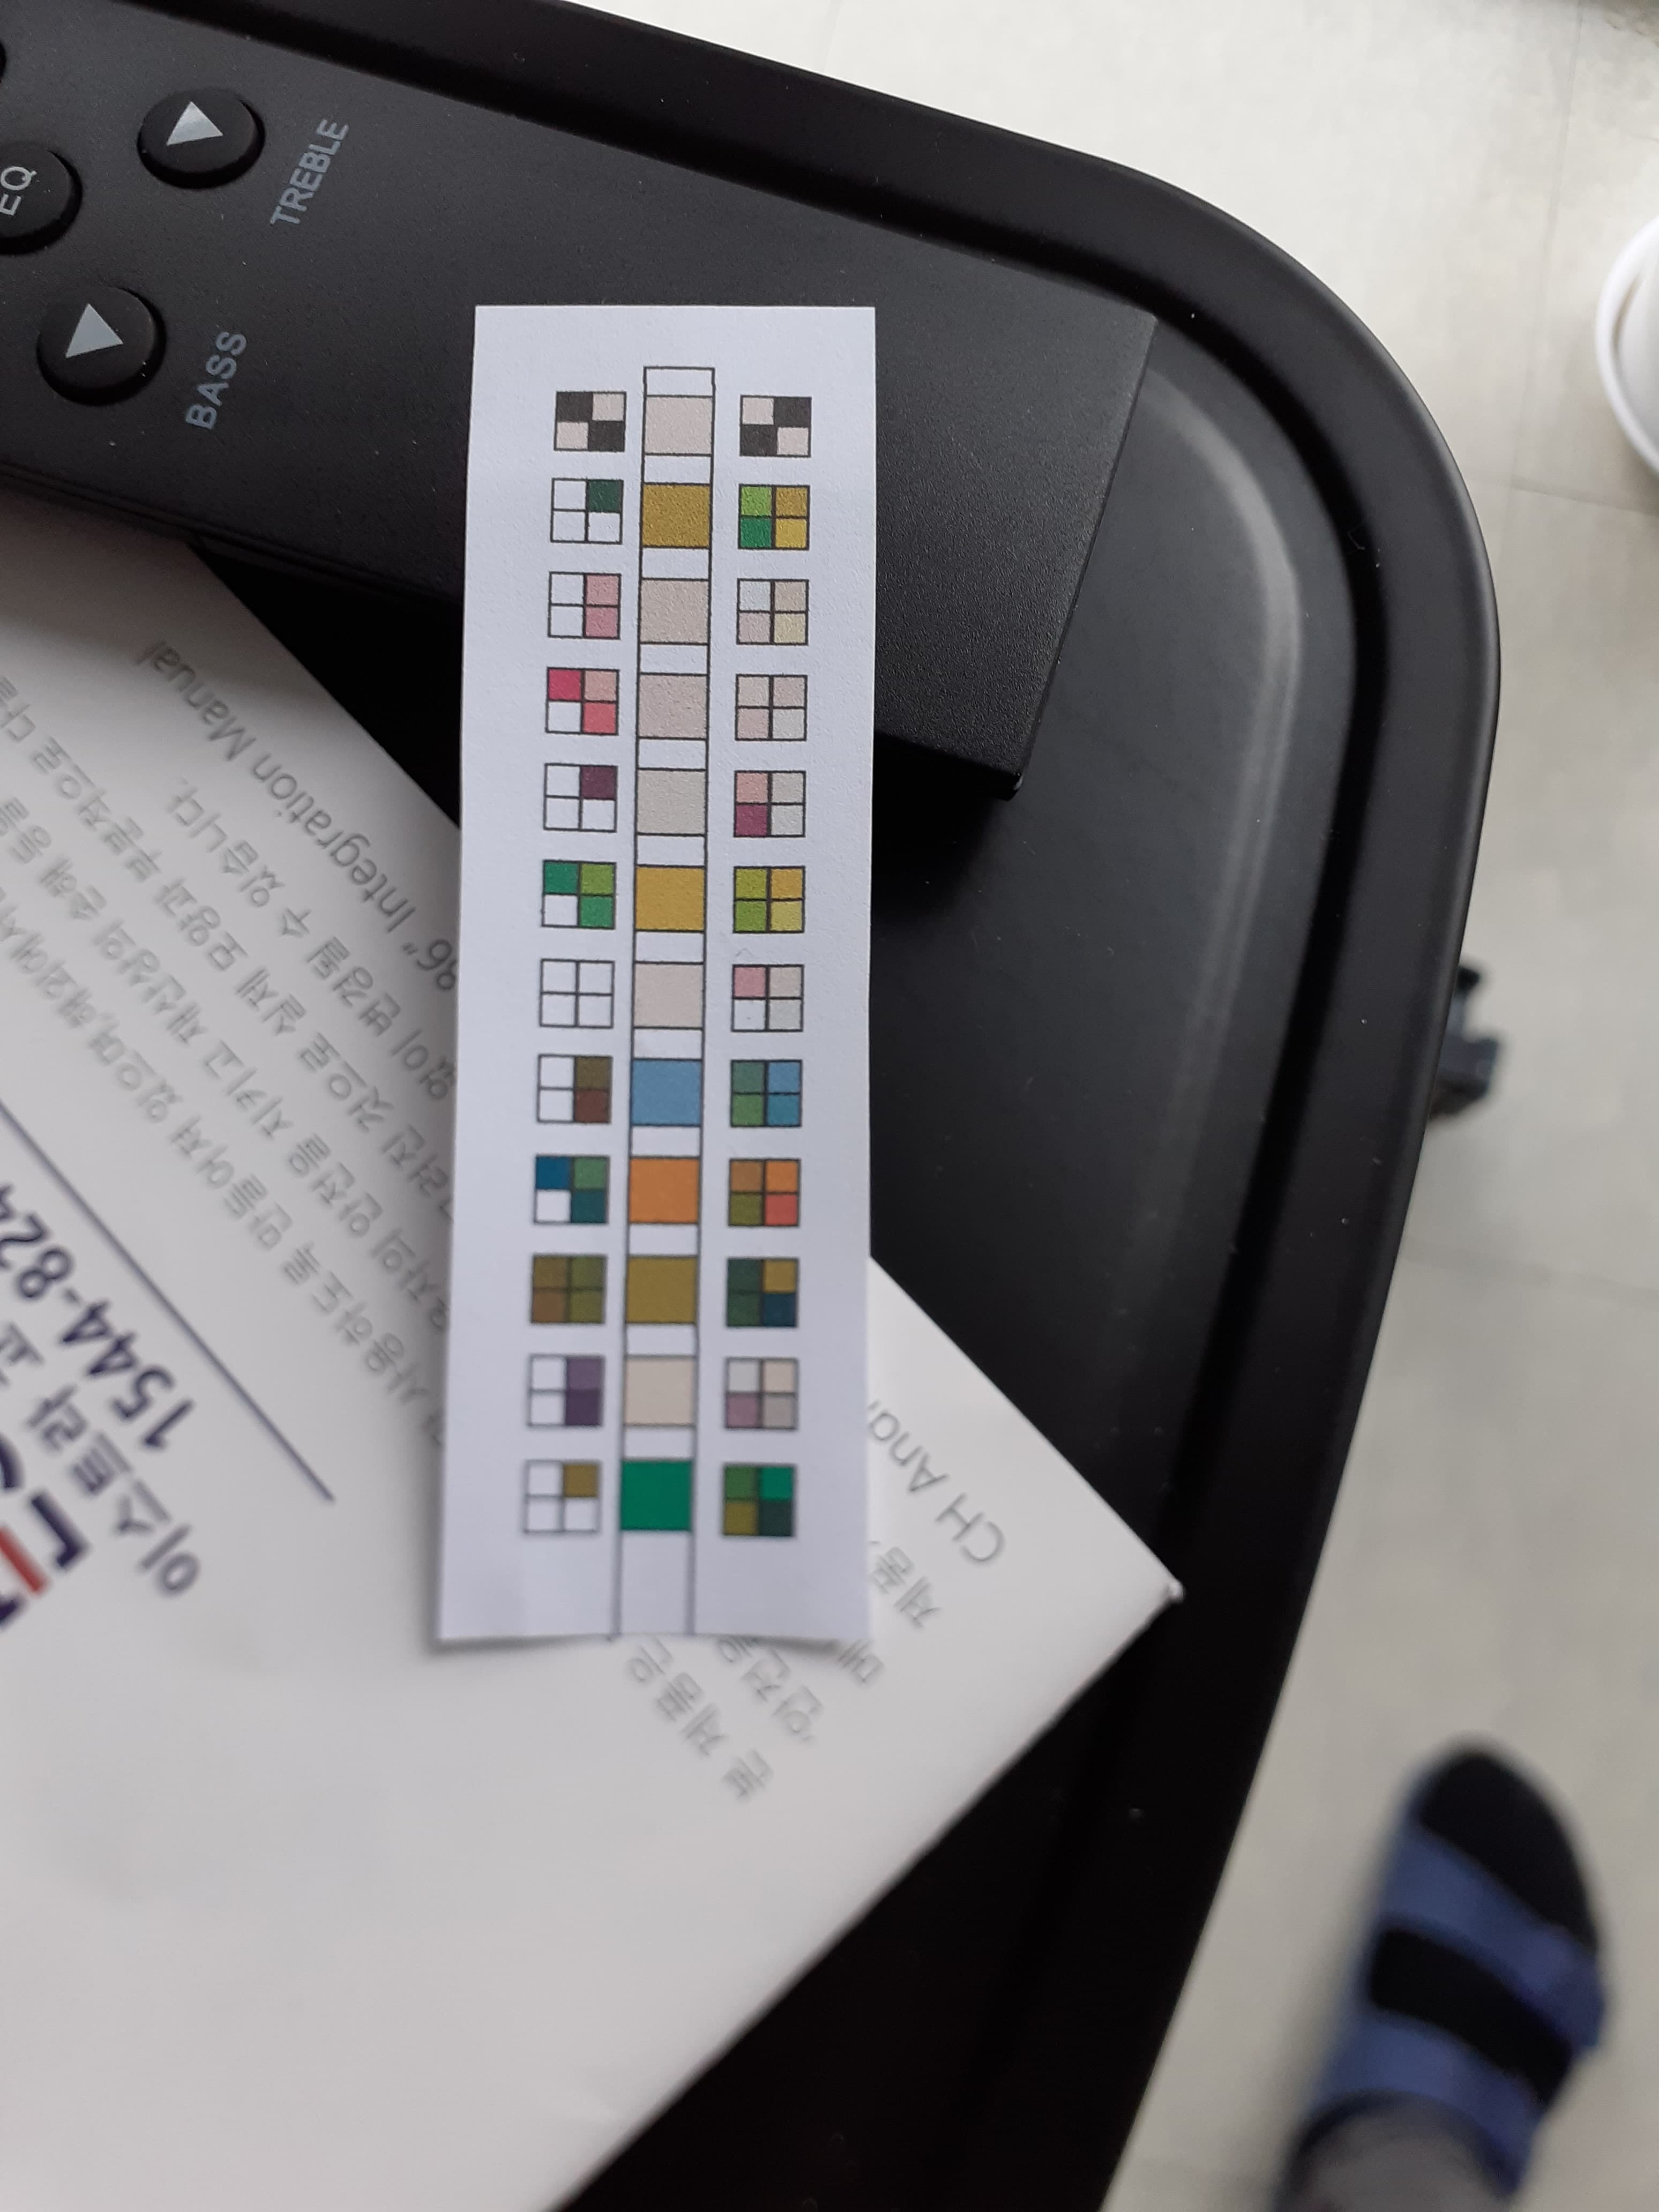tester: (465, 293, 873, 1648)
